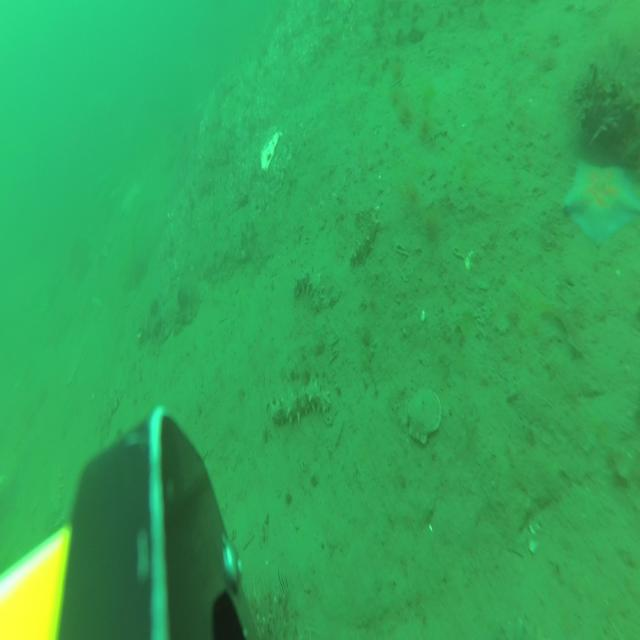holothurian: (270, 378, 331, 427), (350, 205, 380, 268), (97, 385, 127, 443), (296, 268, 324, 312), (49, 462, 63, 535)
scallop: (408, 388, 442, 444)
starfish: (563, 159, 640, 247)
